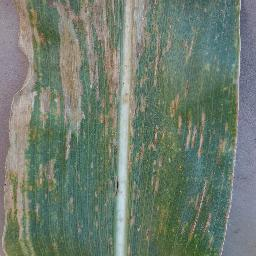Gray_Leaf_Spot: (3, 0, 244, 256)
